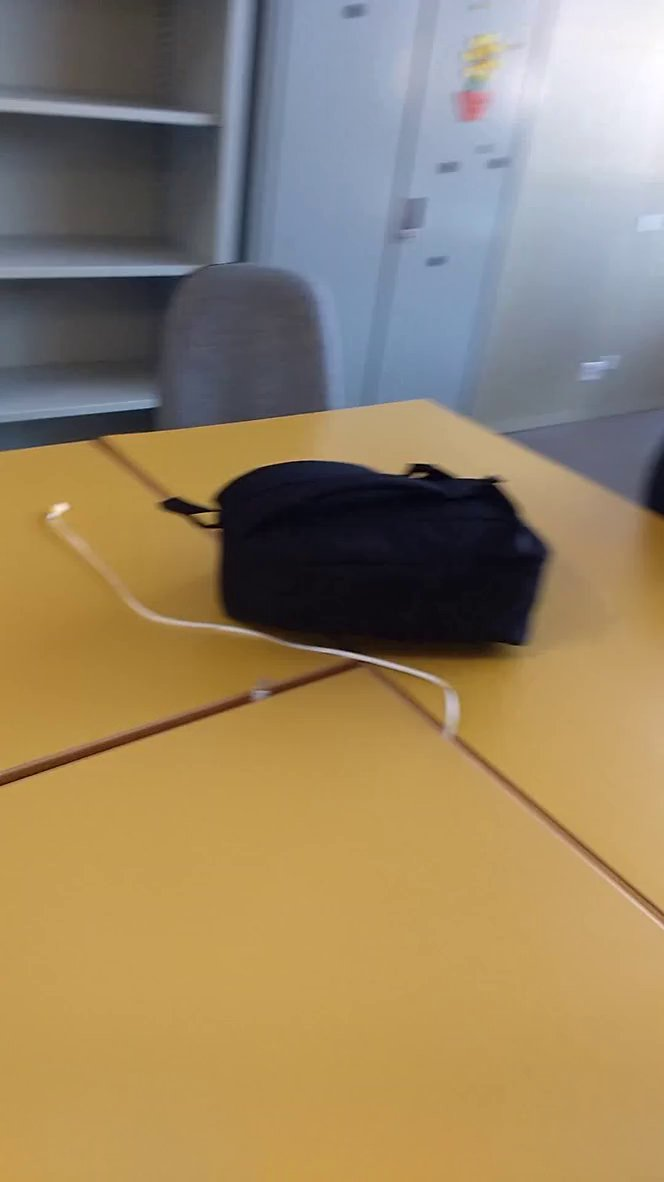bag: (148, 450, 565, 670)
chair: (142, 255, 368, 439)
